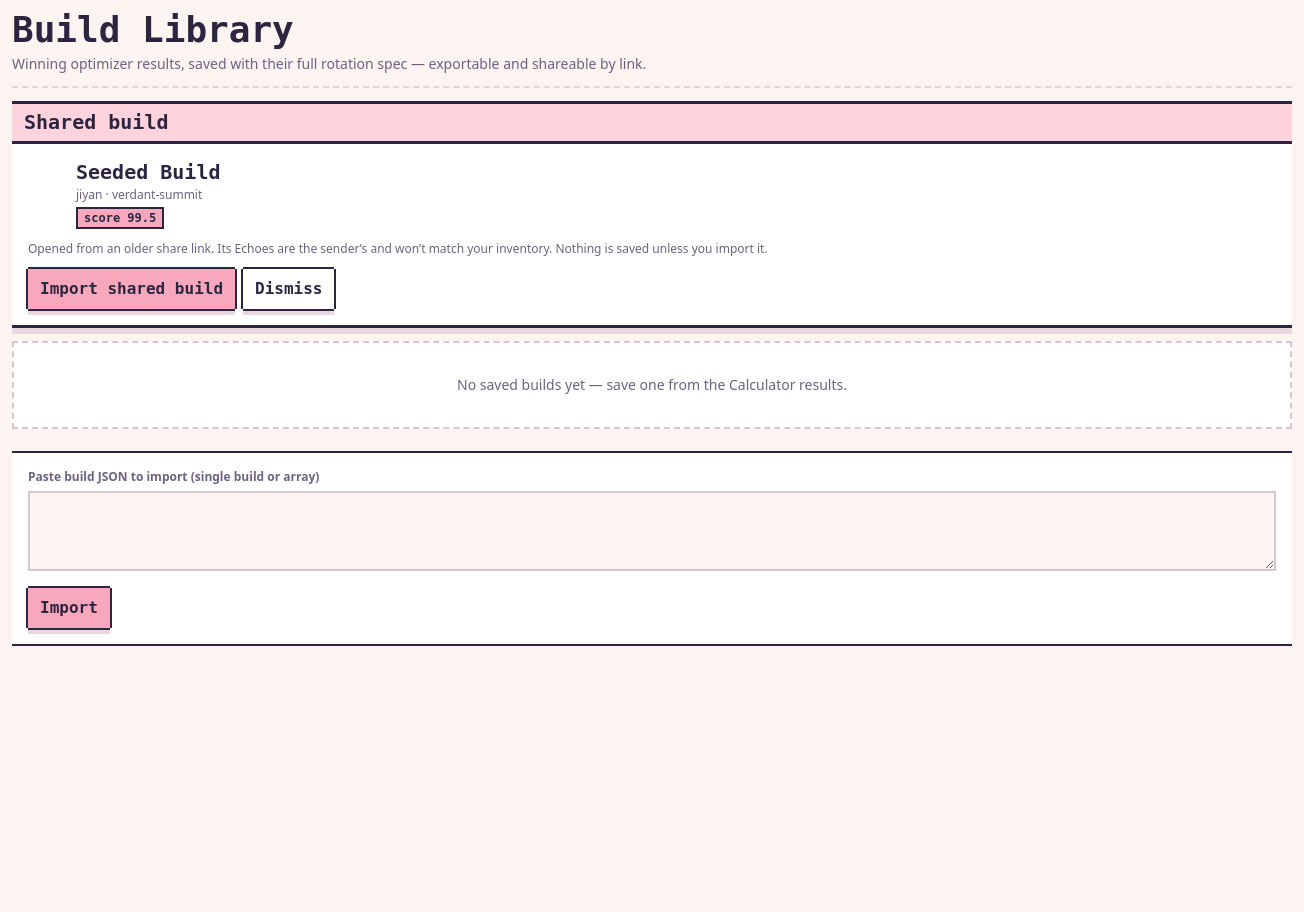
Scenario: BuildsPage › previews a shared build from the link and writes nothing until Import
This screenshot has width=1304, height=912.
Expected: the text "Seeded Build" is shown, [76,160,220,184]
Expected: the text "score 99.5" is shown, [76,207,164,229]
Click the button "Import shared build" at [132, 289], box [28,269,235,309]
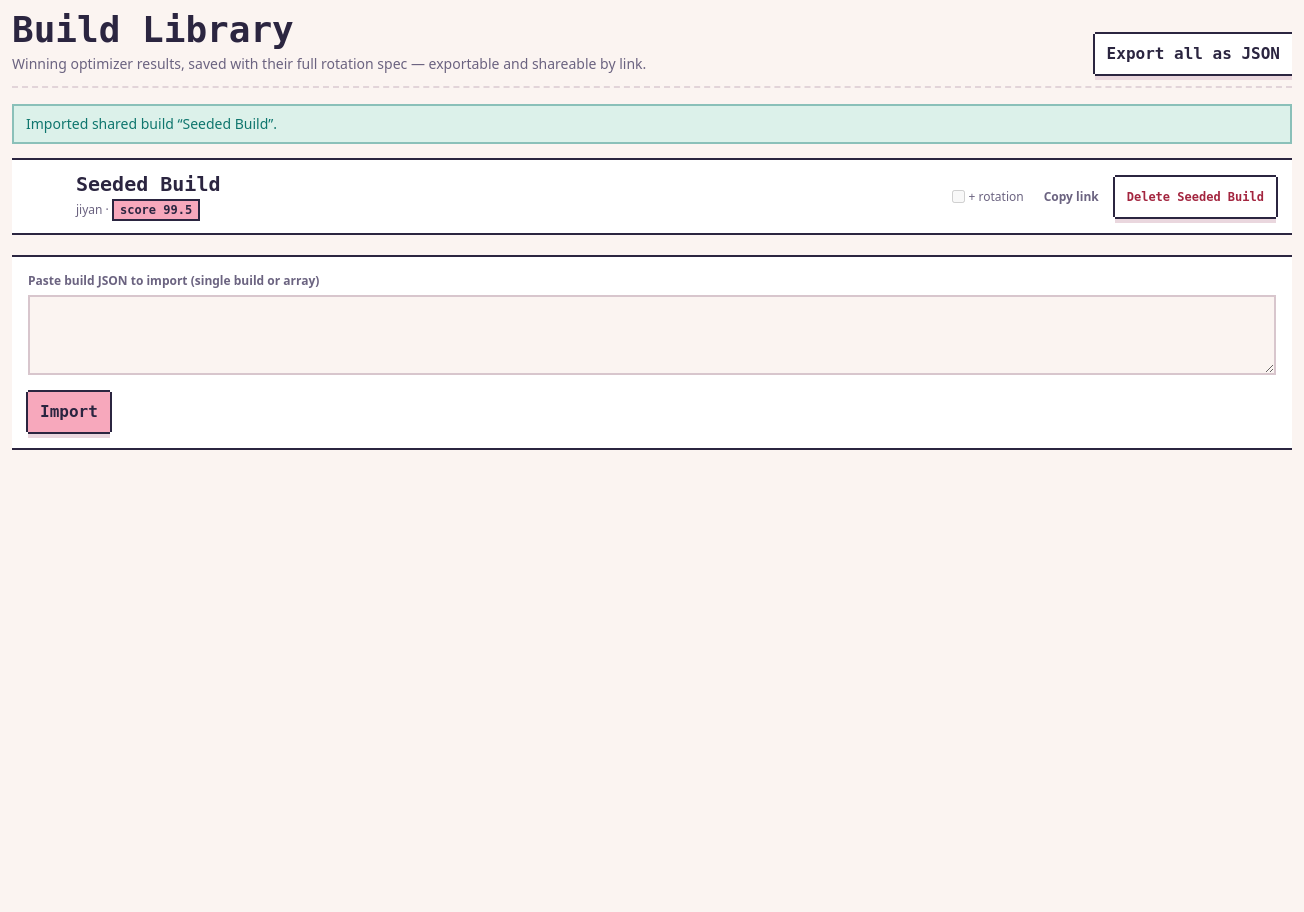
Expected: the text "Imported shared build “Seeded Build”." is shown, [12,104,1292,144]
